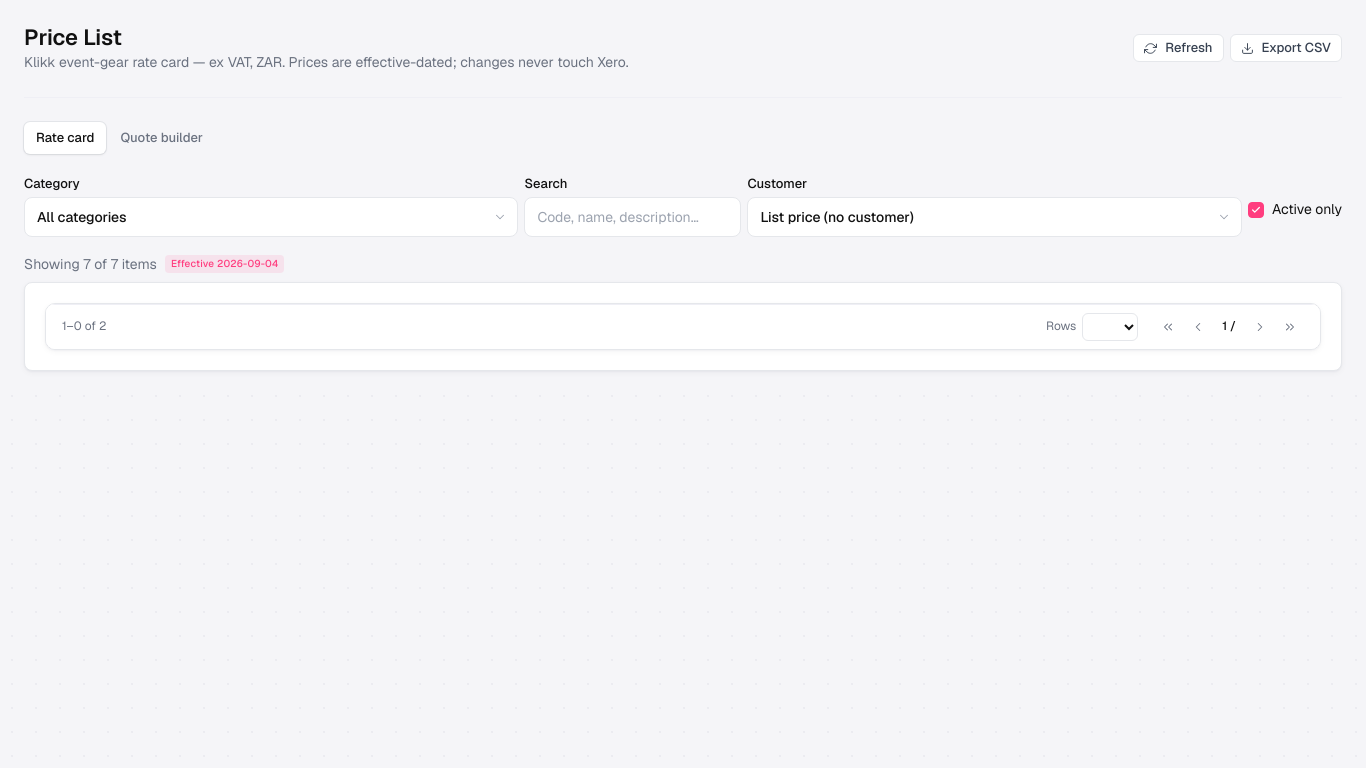
Test: Pricelist — tabs and ?tab= sync › starts on the rate card with no ?tab= and switches to the quote builder on click, writing ?tab=quote
Step 1. Click the tab "Quote builder" → [162, 138], box [108,122,215,154]
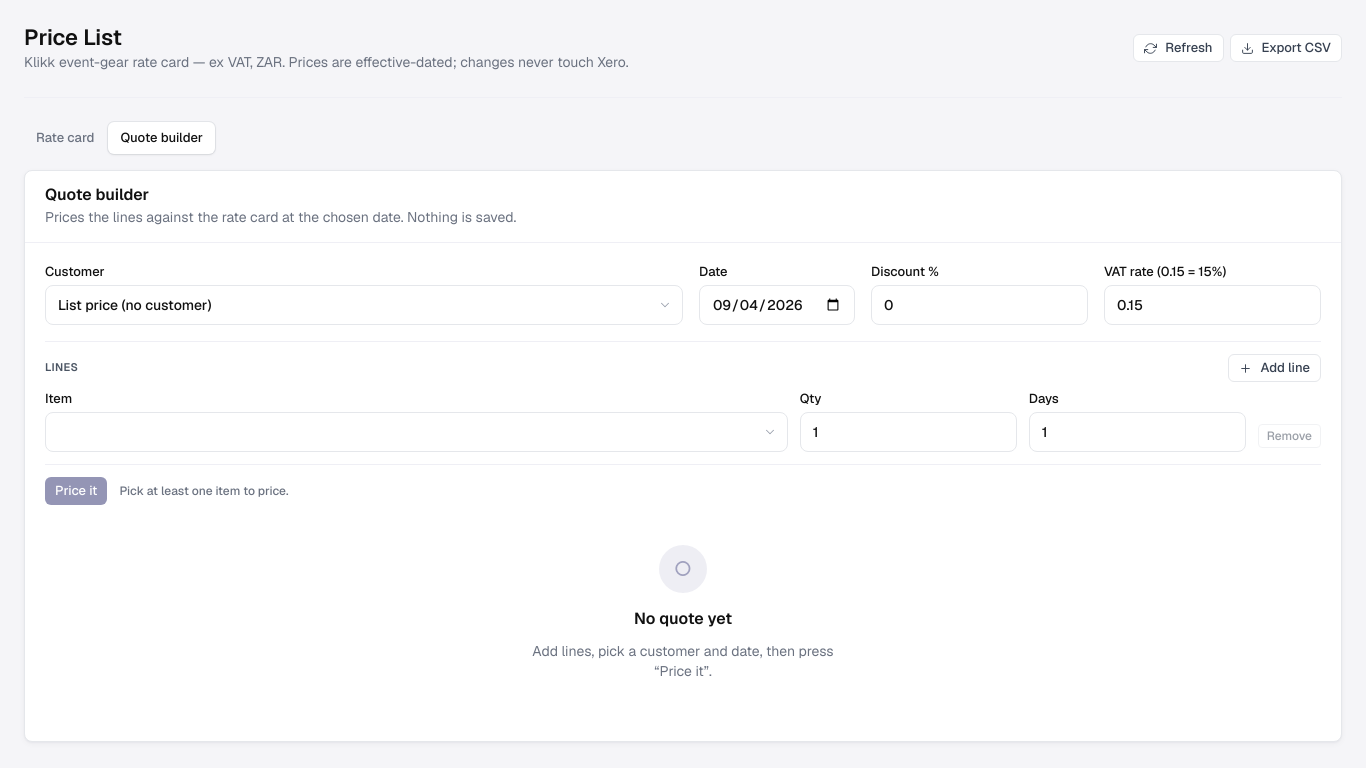
Expected: the text "Price it" is shown, [45,477,107,505]
Expected: the text "No quote yet" is shown, [634,607,732,630]
